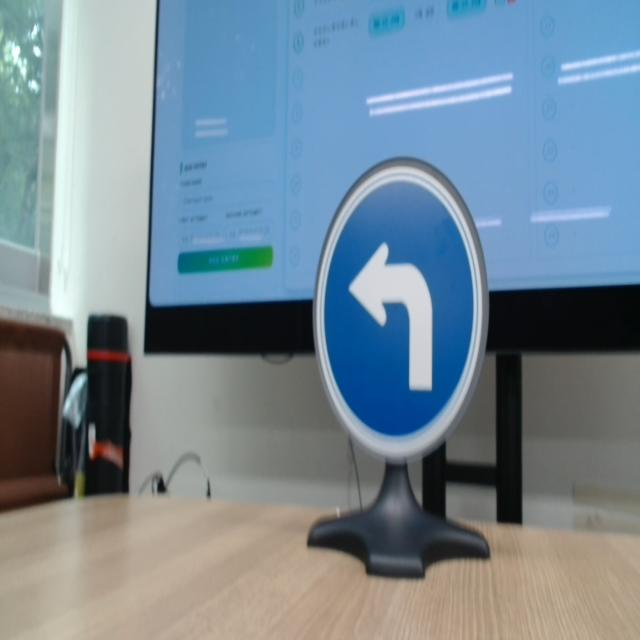left_direction: (313, 152, 492, 464)
